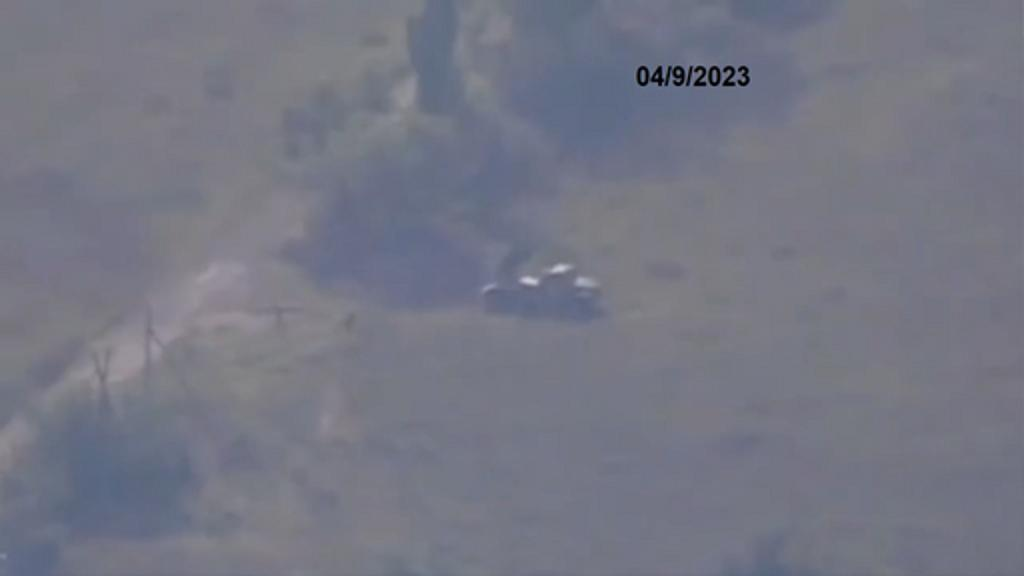MLRS: (478, 232, 604, 322)
